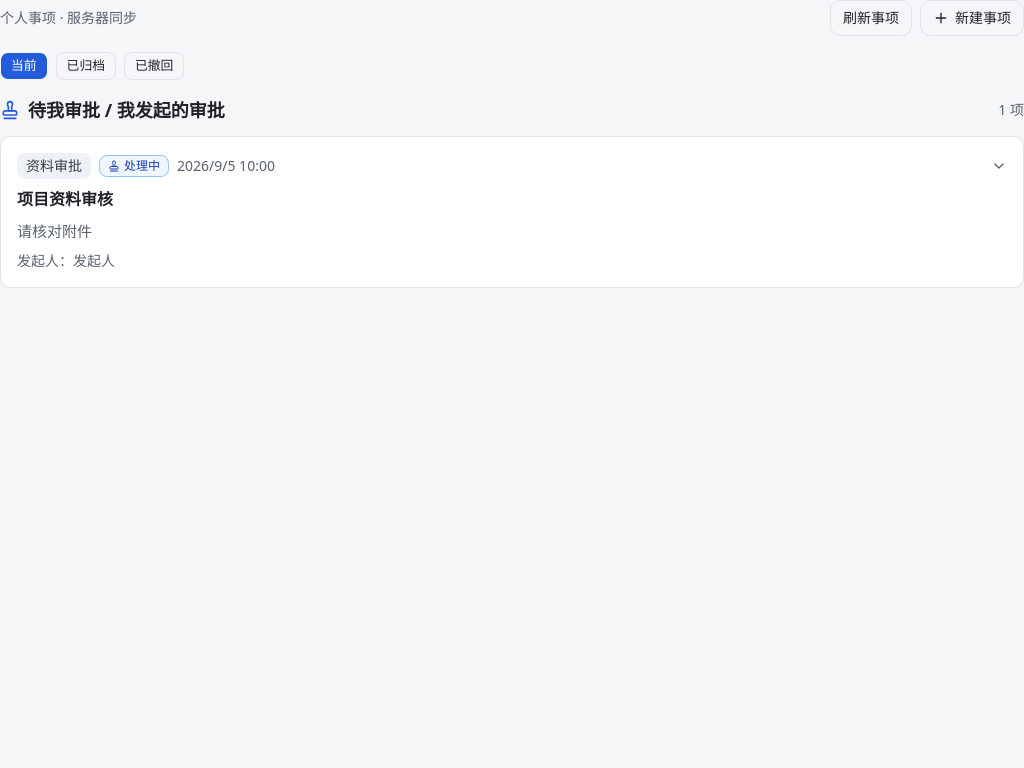
reports preview errors with a download fallback
Click the button with aria-label "事项概览：项目资料审核": (512, 212) [1,137,1023,287]
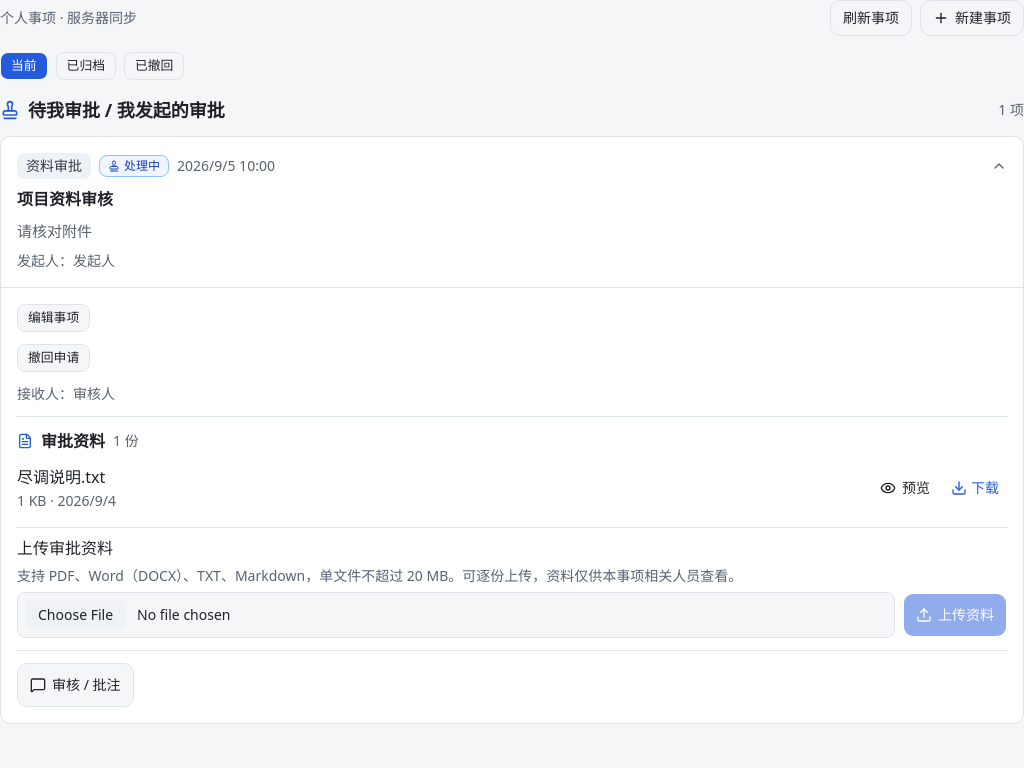
Click the button with aria-label "预览 尽调说明.txt": (905, 488) [871,466,939,510]
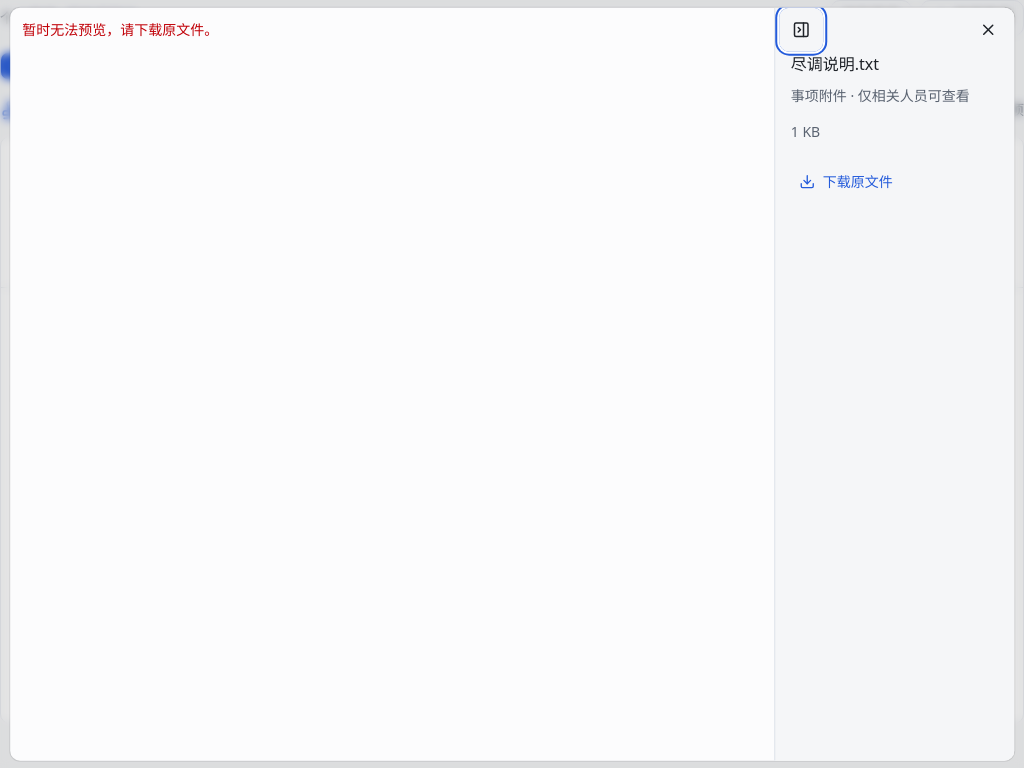
Expected: the message reads "暂时无法预览，请下载原文件。", [22,20,218,39]
Expected: the link with aria-label "下载 尽调说明.txt" is shown, [799,172,893,191]
